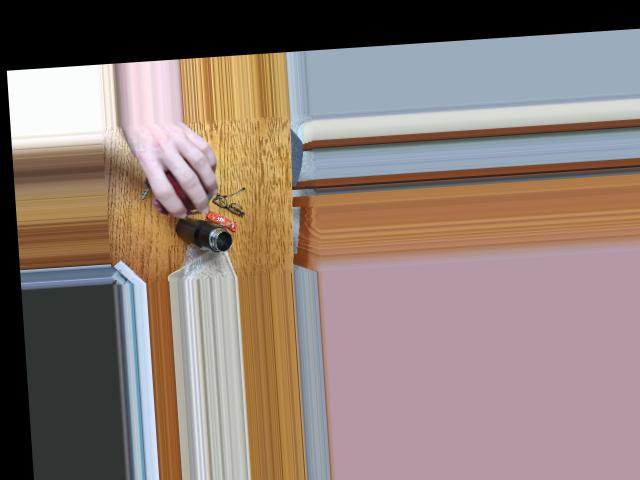onion: (149, 157, 216, 207)
